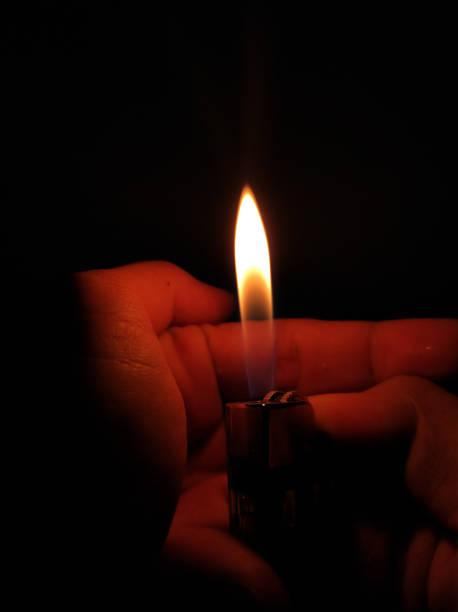Fire: (229, 178, 280, 386)
